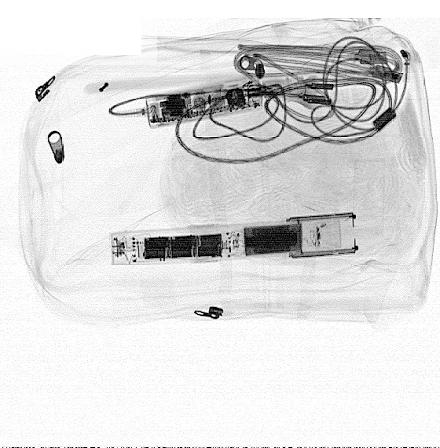Baton: (108, 212, 360, 266)
